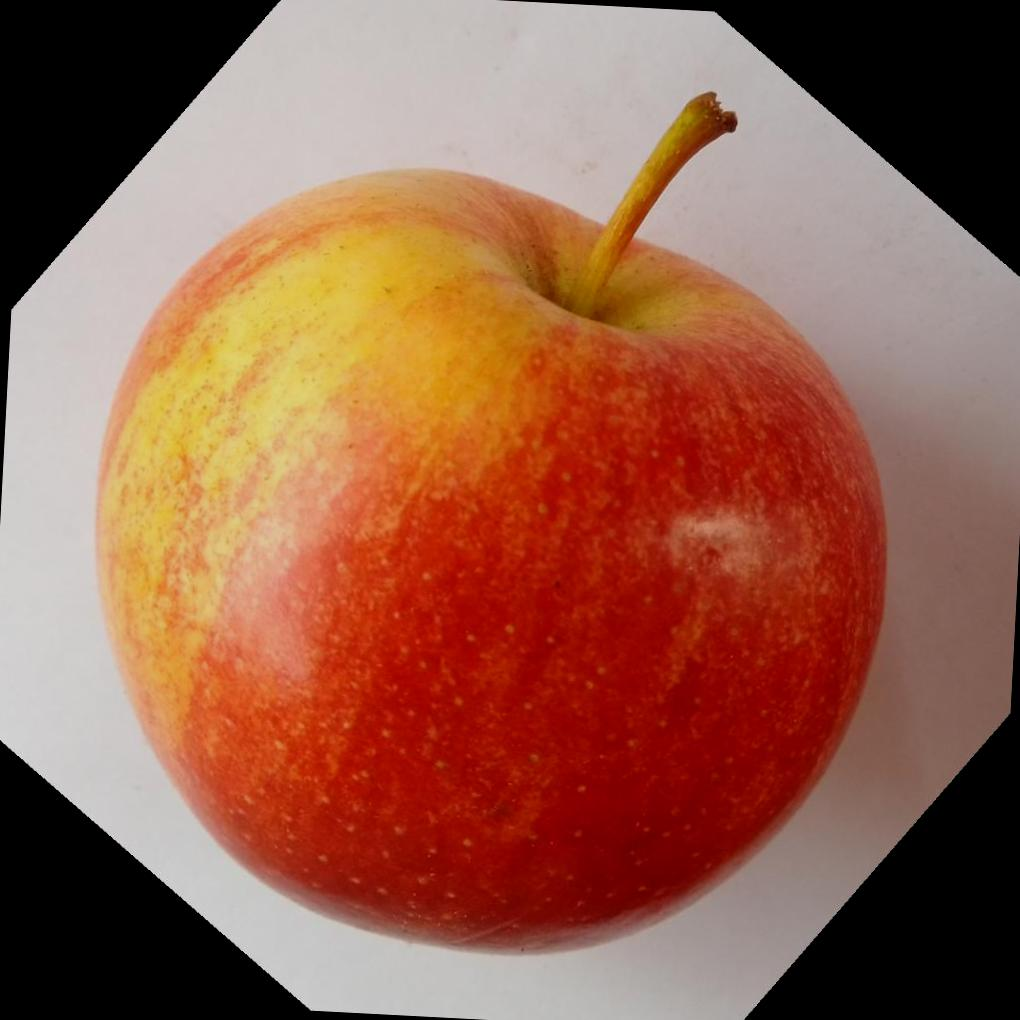FreshGuava: (90, 87, 889, 953)
